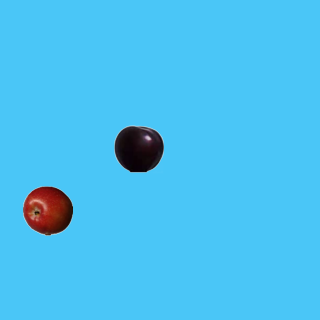Apple Braeburn: (22, 185, 72, 235)
Cherry Wax Black: (113, 123, 163, 173)
